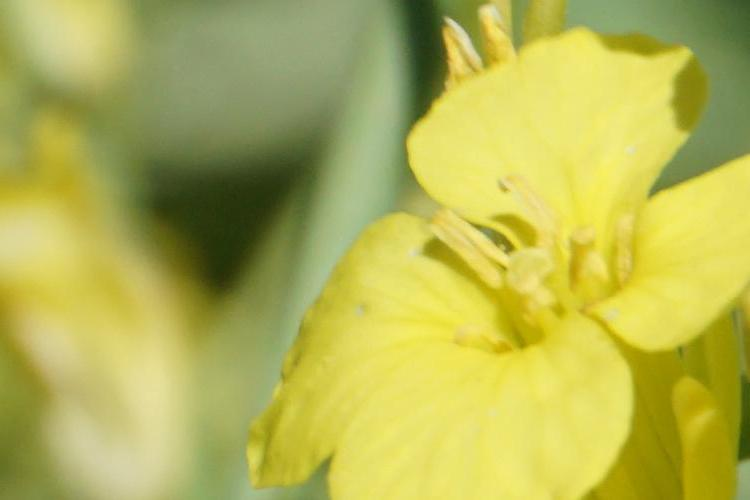yellow: (243, 27, 742, 497)
